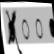correct: (48, 16, 54, 39)
not correct: (3, 6, 22, 54)
